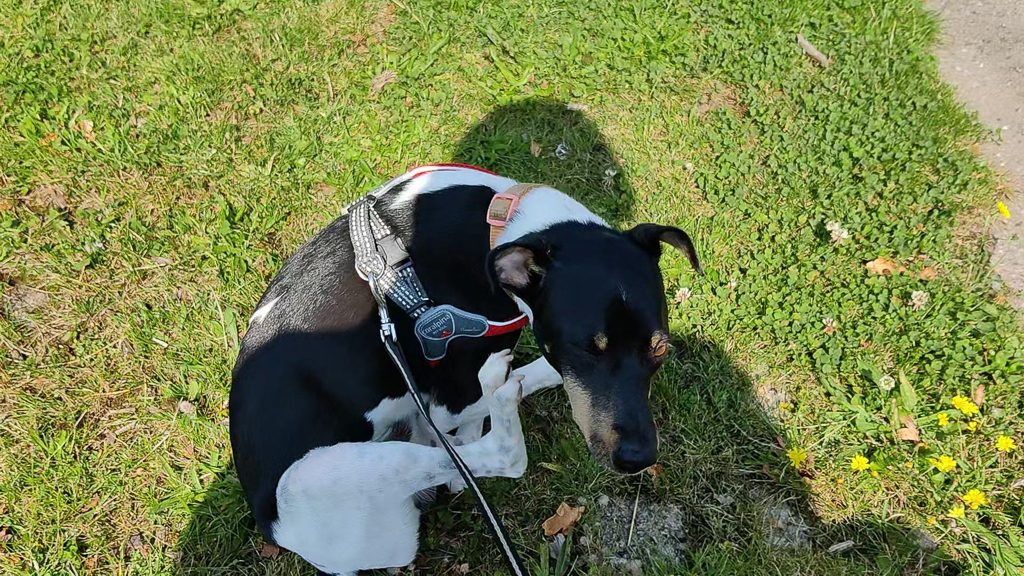Dog: (218, 163, 711, 576)
